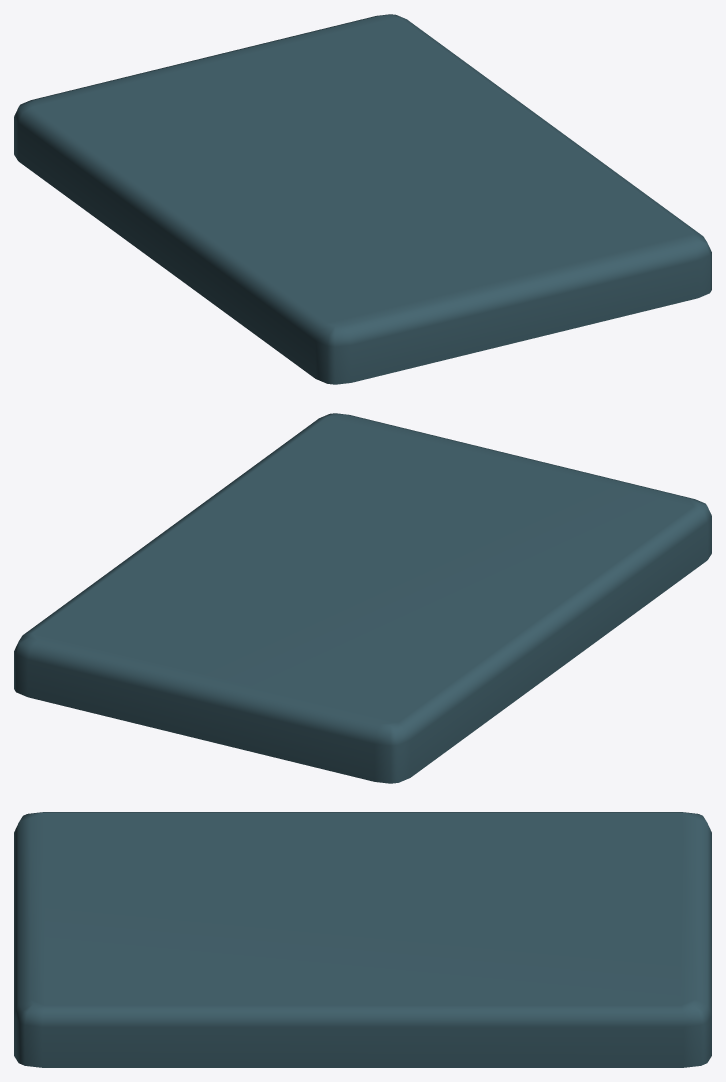
Rendered from Cargo_Drone_001_Cap_001.fbx.
The picture shows the model from 3 angles, top to bottom: view 1: azimuth 30°, elevation 25°; view 2: azimuth 150°, elevation 25°; view 3: azimuth 270°, elevation 25°; orthographic projection. The views are drawn at different scales.
Visible parts, largest first — view 1: Cargo_Drone_001_Cap_001; view 2: Cargo_Drone_001_Cap_001; view 3: Cargo_Drone_001_Cap_001.
Boxes of the visible parts, <box> form: Cargo_Drone_001_Cap_001: <box>14,14,711,384</box>; Cargo_Drone_001_Cap_001: <box>14,413,711,783</box>; Cargo_Drone_001_Cap_001: <box>14,812,711,1067</box>.
Size of the model in its own units: 43.14 by 61.61 by 5.42.
